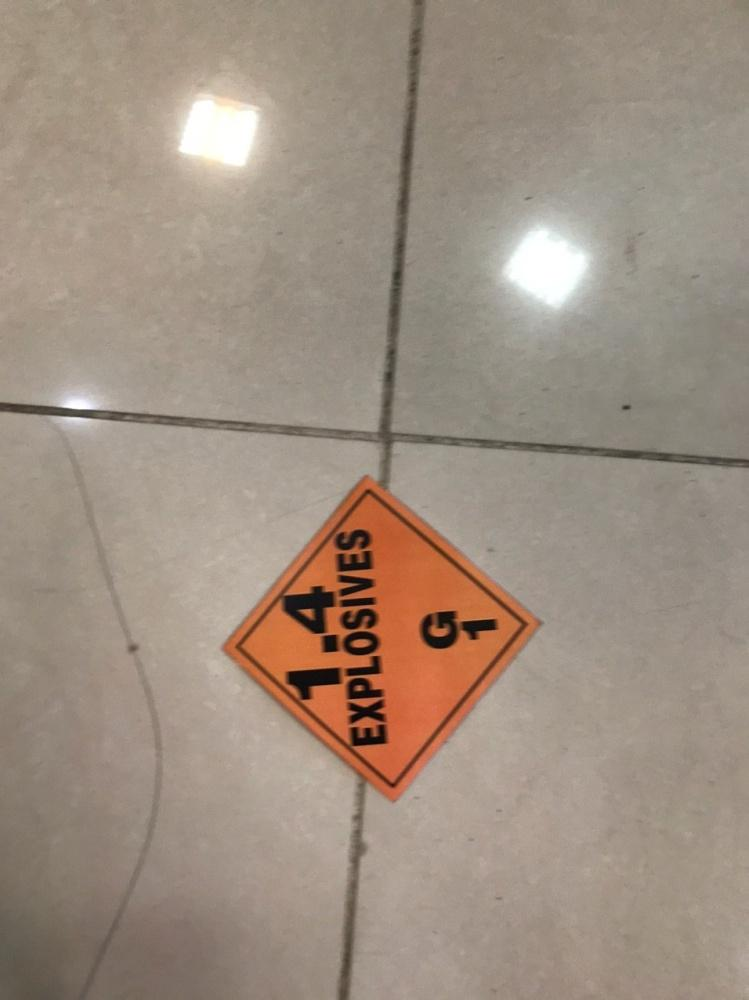explosive: (223, 480, 541, 809)
